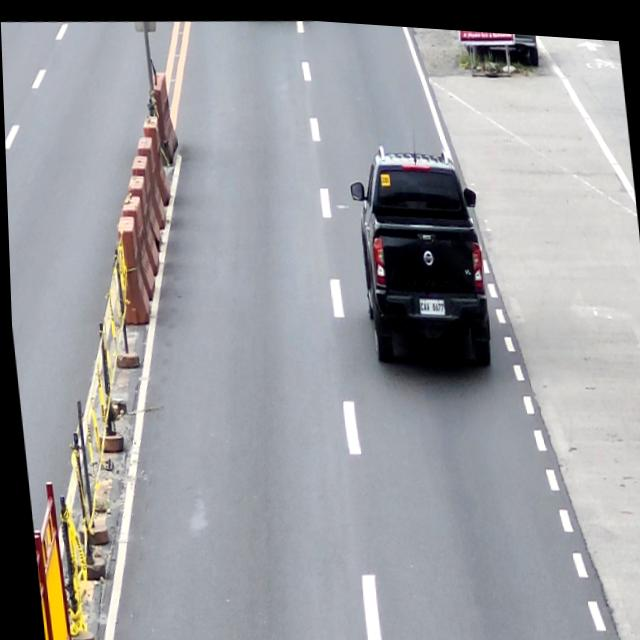Car: (344, 129, 491, 367)
License-Plate: (416, 290, 443, 312)
